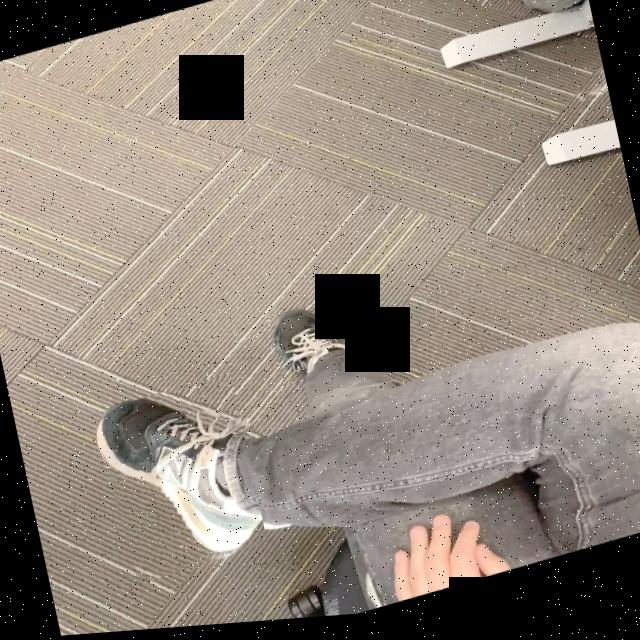shoe: (98, 401, 263, 559), (273, 314, 357, 384)
